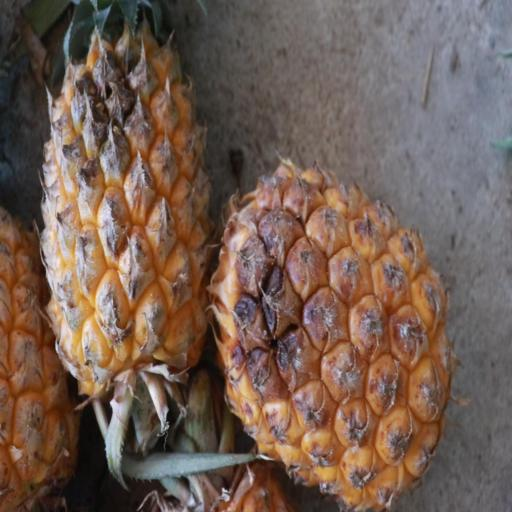Pineapple - v8 v1: (207, 157, 456, 512), (37, 0, 214, 431)
